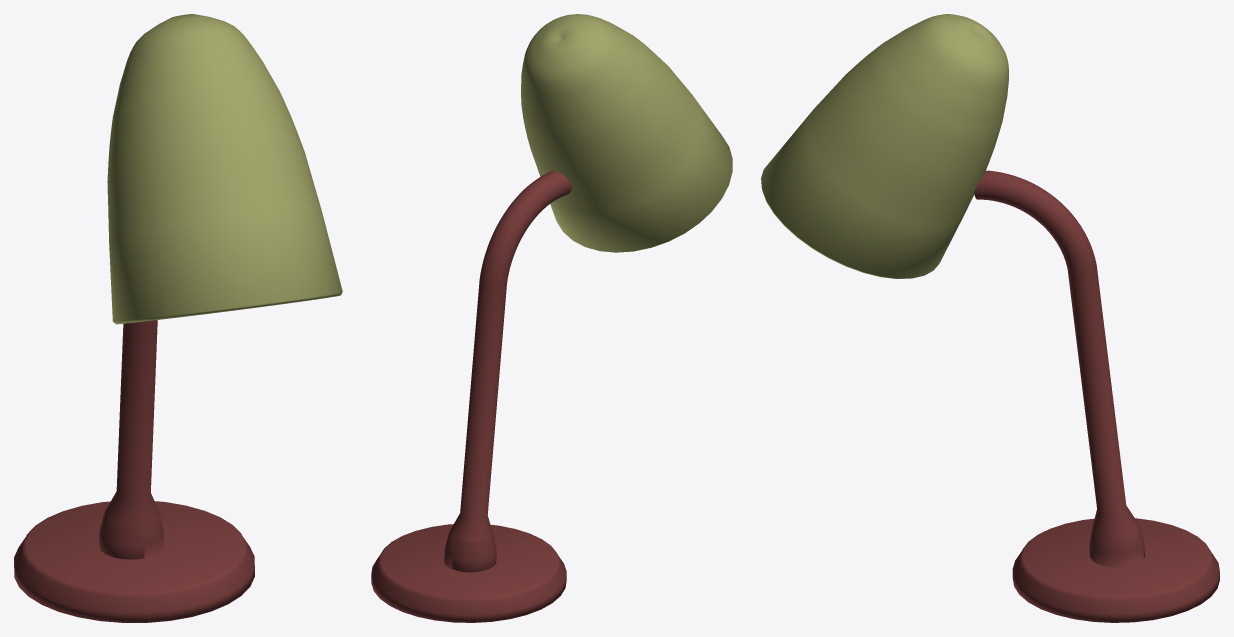
Rendered from lamp.glb.
The picture shows the model from 3 angles, left to right: view 1: azimuth 30°, elevation 25°; view 2: azimuth 150°, elevation 25°; view 3: azimuth 270°, elevation 25°; orthographic projection. The views are drawn at different scales.
Visible parts, largest first — view 1: Cylinder.005; view 2: Cylinder.005; view 3: Cylinder.005.
Boxes of the visible parts, box(x1,y1,x2,y2) form: Cylinder.005: box(14, 14, 342, 622); Cylinder.005: box(371, 14, 732, 622); Cylinder.005: box(761, 14, 1219, 622).
Size of the model in its own units: 1.01 by 2.31 by 1.77.
